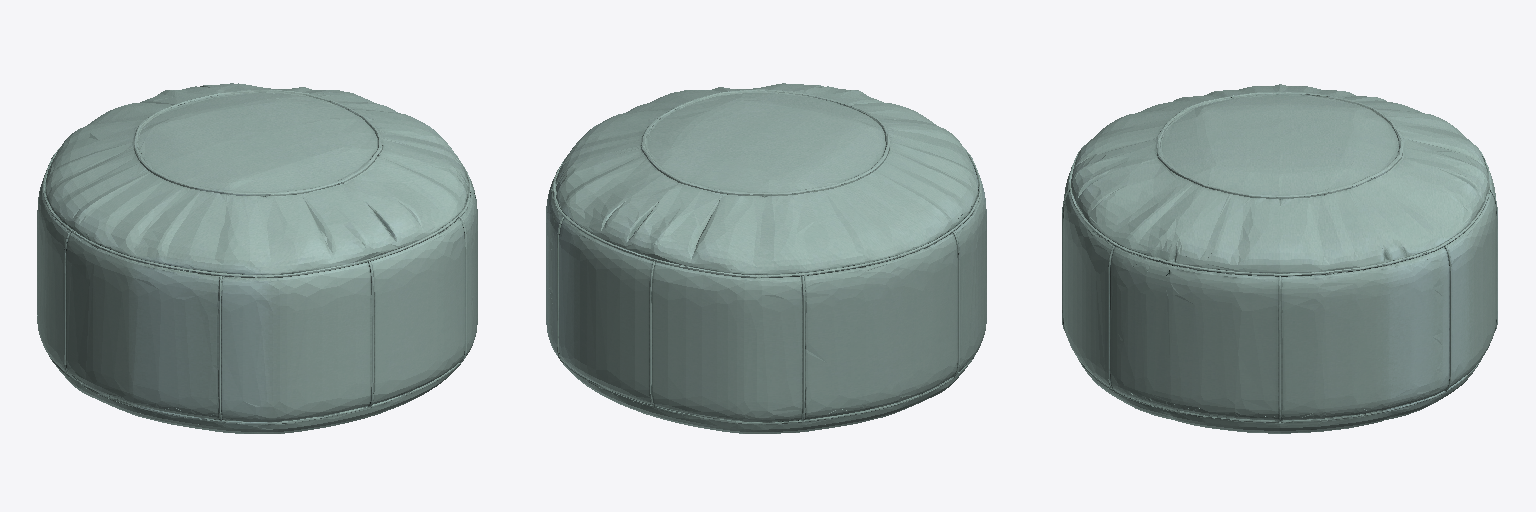
3 views of the same model, side by side, from view 1: azimuth 30°, elevation 25°; view 2: azimuth 150°, elevation 25°; view 3: azimuth 270°, elevation 25° (orthographic).
Parts seen in each view (by area): view 1: solid; view 2: solid; view 3: solid.
Part boxes in pixels (left/top/right/bottom): solid: left=37, top=83, right=477, bottom=433; solid: left=546, top=83, right=986, bottom=433; solid: left=1062, top=84, right=1497, bottom=433.
Bounding box in the file's own units: 0.5373 × 0.3257 × 0.5288.
1 materials, 1 textured.